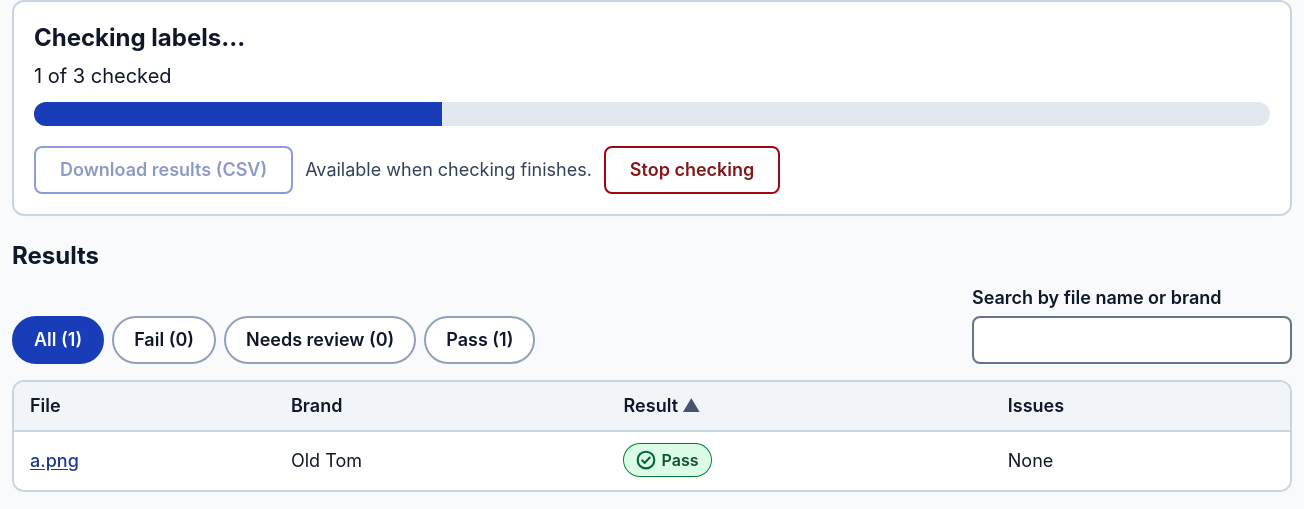
Test case: stop checking cancels the job after confirmation
Click the button "Stop checking" at (692, 170), box [604,146,780,194]
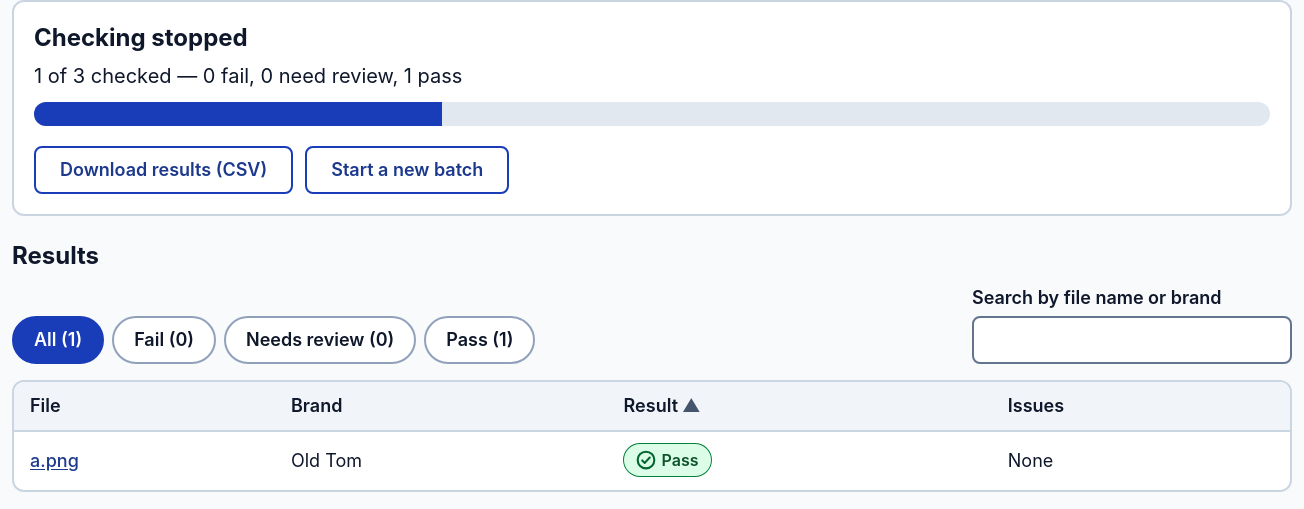
Expected: the link "Download results (CSV)" is shown, [34,146,293,194]
Result: the heading "Checking stopped" is shown at [34,23,248,52]
